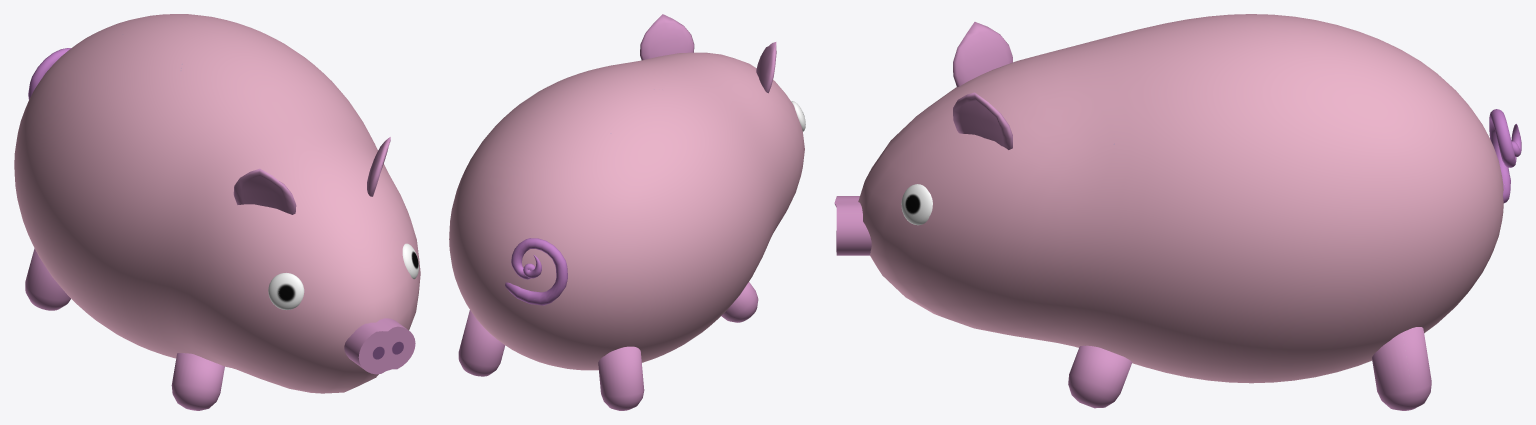
Rendered from pig.fbx.
3 renders of one model, left to right at view 1: azimuth 30°, elevation 25°; view 2: azimuth 150°, elevation 25°; view 3: azimuth 270°, elevation 25°, orthographic. The views are drawn at different scales.
Parts seen in each view (by area): view 1: Roundcube, Cylinder.005, Cylinder.002, Roundcube.002, Cylinder.003, Sphere.001, Spiral.001, Sphere; view 2: Roundcube, Cylinder.003, Roundcube.002, Spiral.001, Cylinder.002; view 3: Roundcube, Roundcube.002, Cylinder.003, Cylinder.002, Cylinder.005, Spiral.001, Sphere.
Part boxes in pixels (x1,y1,x2,y2): Roundcube: (14,14,420,393); Cylinder.005: (344,318,415,374); Cylinder.002: (171,353,224,410); Roundcube.002: (233,137,390,214); Cylinder.003: (25,248,70,310); Sphere.001: (268,272,304,309); Spiral.001: (28,48,70,99); Sphere: (402,243,418,279); Roundcube: (449,52,804,370); Cylinder.003: (458,310,644,410); Roundcube.002: (640,14,776,93); Spiral.001: (505,238,567,305); Cylinder.002: (721,282,758,322); Roundcube: (858,14,1503,383); Roundcube.002: (953,22,1012,149); Cylinder.003: (1372,327,1431,410); Cylinder.002: (1068,345,1132,408); Cylinder.005: (834,196,871,255); Spiral.001: (1489,109,1521,203); Sphere: (901,184,932,225).
Size of the model in its own units: 153 by 149 by 277.
Materials: 8 (8 with a texture image).
